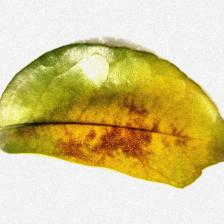canker: (34, 87, 194, 181)
